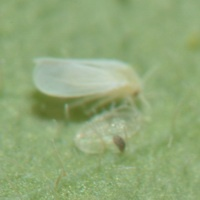insect: (33, 57, 145, 153)
